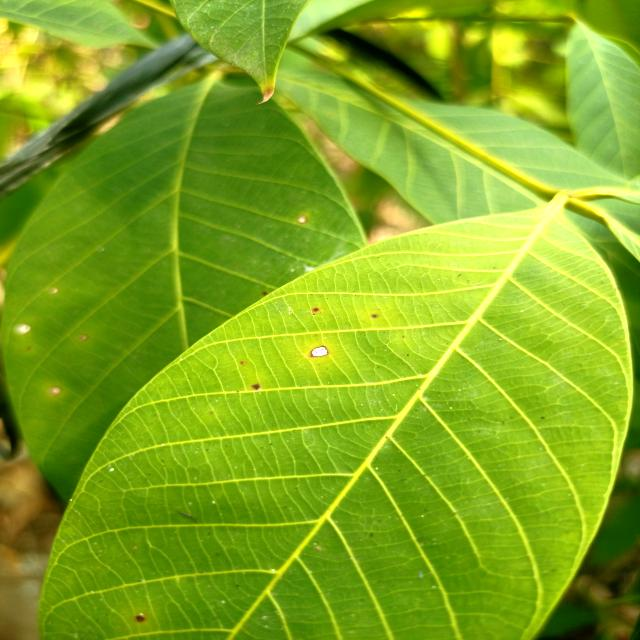Colletotrichum: (310, 346, 329, 357), (135, 616, 145, 622), (252, 384, 260, 390)
